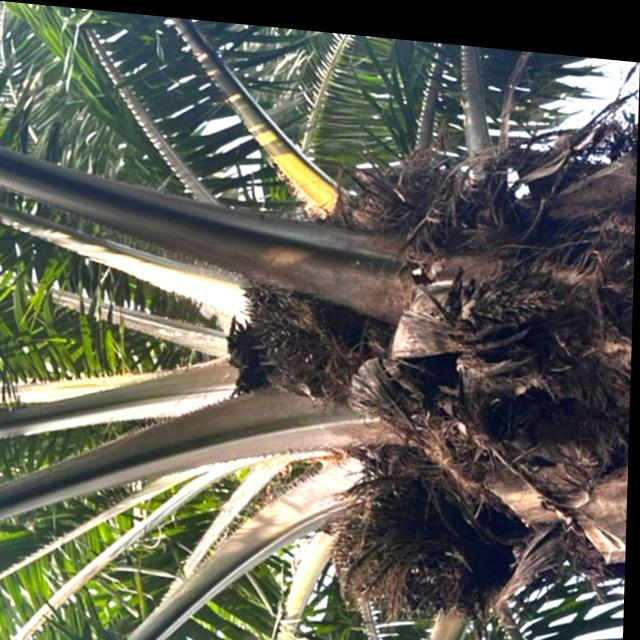ripe: (235, 261, 358, 403)
